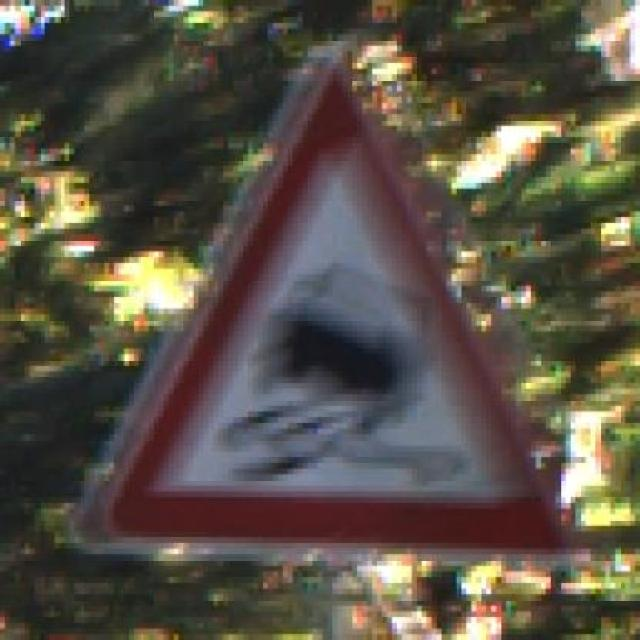Slippery Road Ahead: (74, 46, 586, 566)
